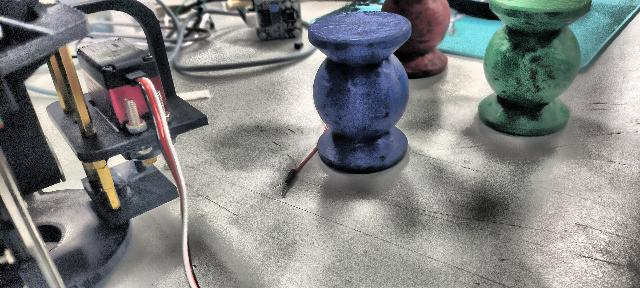blue: (308, 10, 412, 174)
green: (476, 0, 590, 142)
red: (380, 0, 451, 77)
